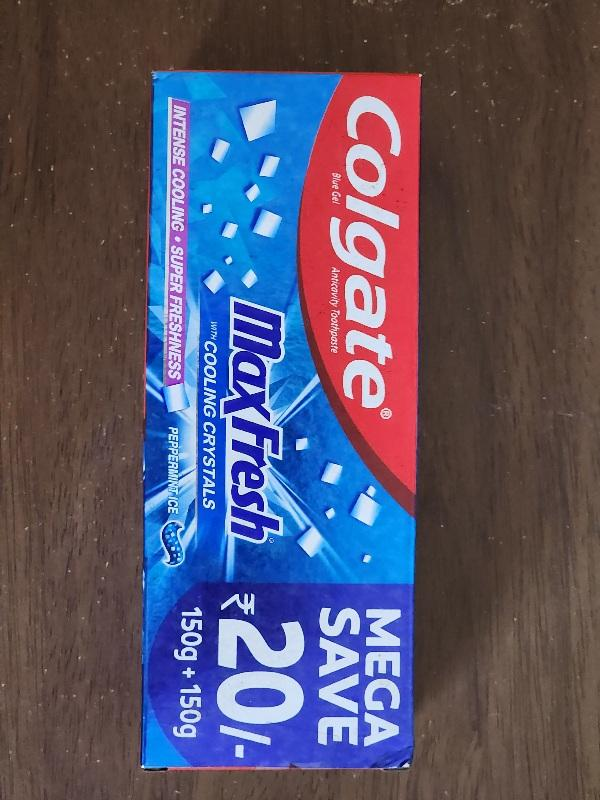Colgate: (146, 74, 414, 764)
